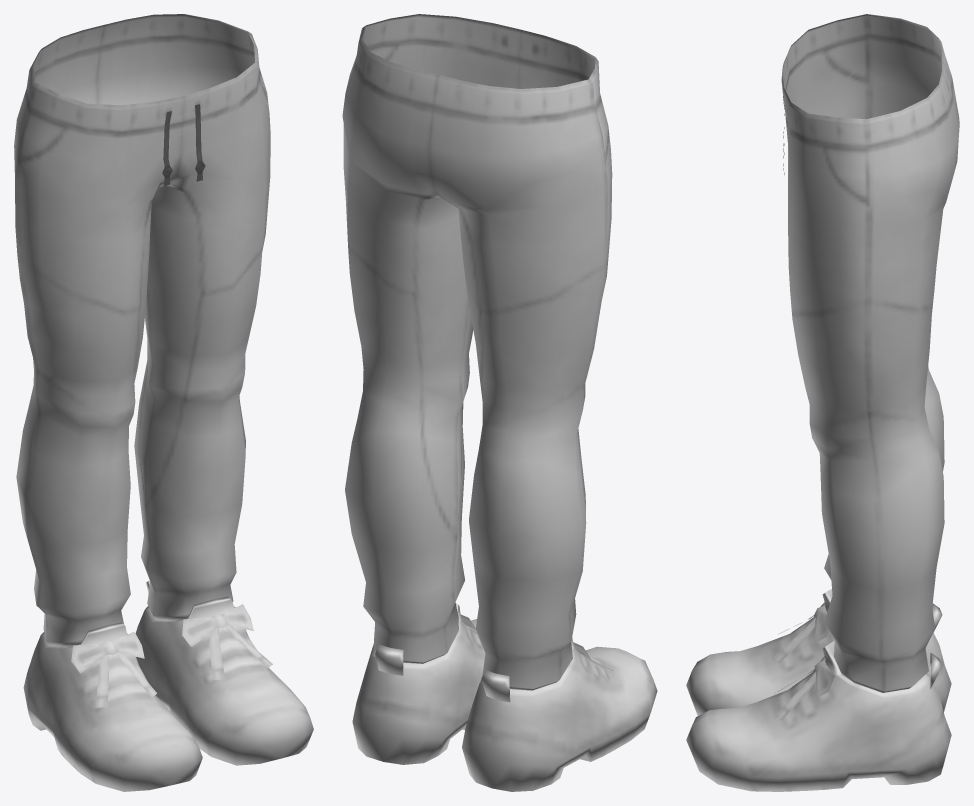
Rendered from tr0780_00_lwb02.gltf.
3 renders of one model, left to right at view 1: azimuth 30°, elevation 25°; view 2: azimuth 150°, elevation 25°; view 3: azimuth 270°, elevation 25°, orthographic. The views are drawn at different scales.
Visible parts, largest first — view 1: lwb02_lowerbody_mesh_shape:lowerbody02, lwb02_shoes_mesh_shape:lowerbody02; view 2: lwb02_lowerbody_mesh_shape:lowerbody02, lwb02_shoes_mesh_shape:lowerbody02; view 3: lwb02_lowerbody_mesh_shape:lowerbody02, lwb02_shoes_mesh_shape:lowerbody02.
Part boxes in pixels (x1,y1,x2,y2): lwb02_lowerbody_mesh_shape:lowerbody02: (14, 14, 270, 645); lwb02_shoes_mesh_shape:lowerbody02: (23, 580, 313, 791); lwb02_lowerbody_mesh_shape:lowerbody02: (342, 14, 612, 690); lwb02_shoes_mesh_shape:lowerbody02: (352, 603, 657, 791); lwb02_lowerbody_mesh_shape:lowerbody02: (781, 14, 959, 692); lwb02_shoes_mesh_shape:lowerbody02: (686, 589, 951, 791).
Size of what is drawn, in the model's own units: 0.3671 by 0.9313 by 0.3399.
1 material, 1 textured.
